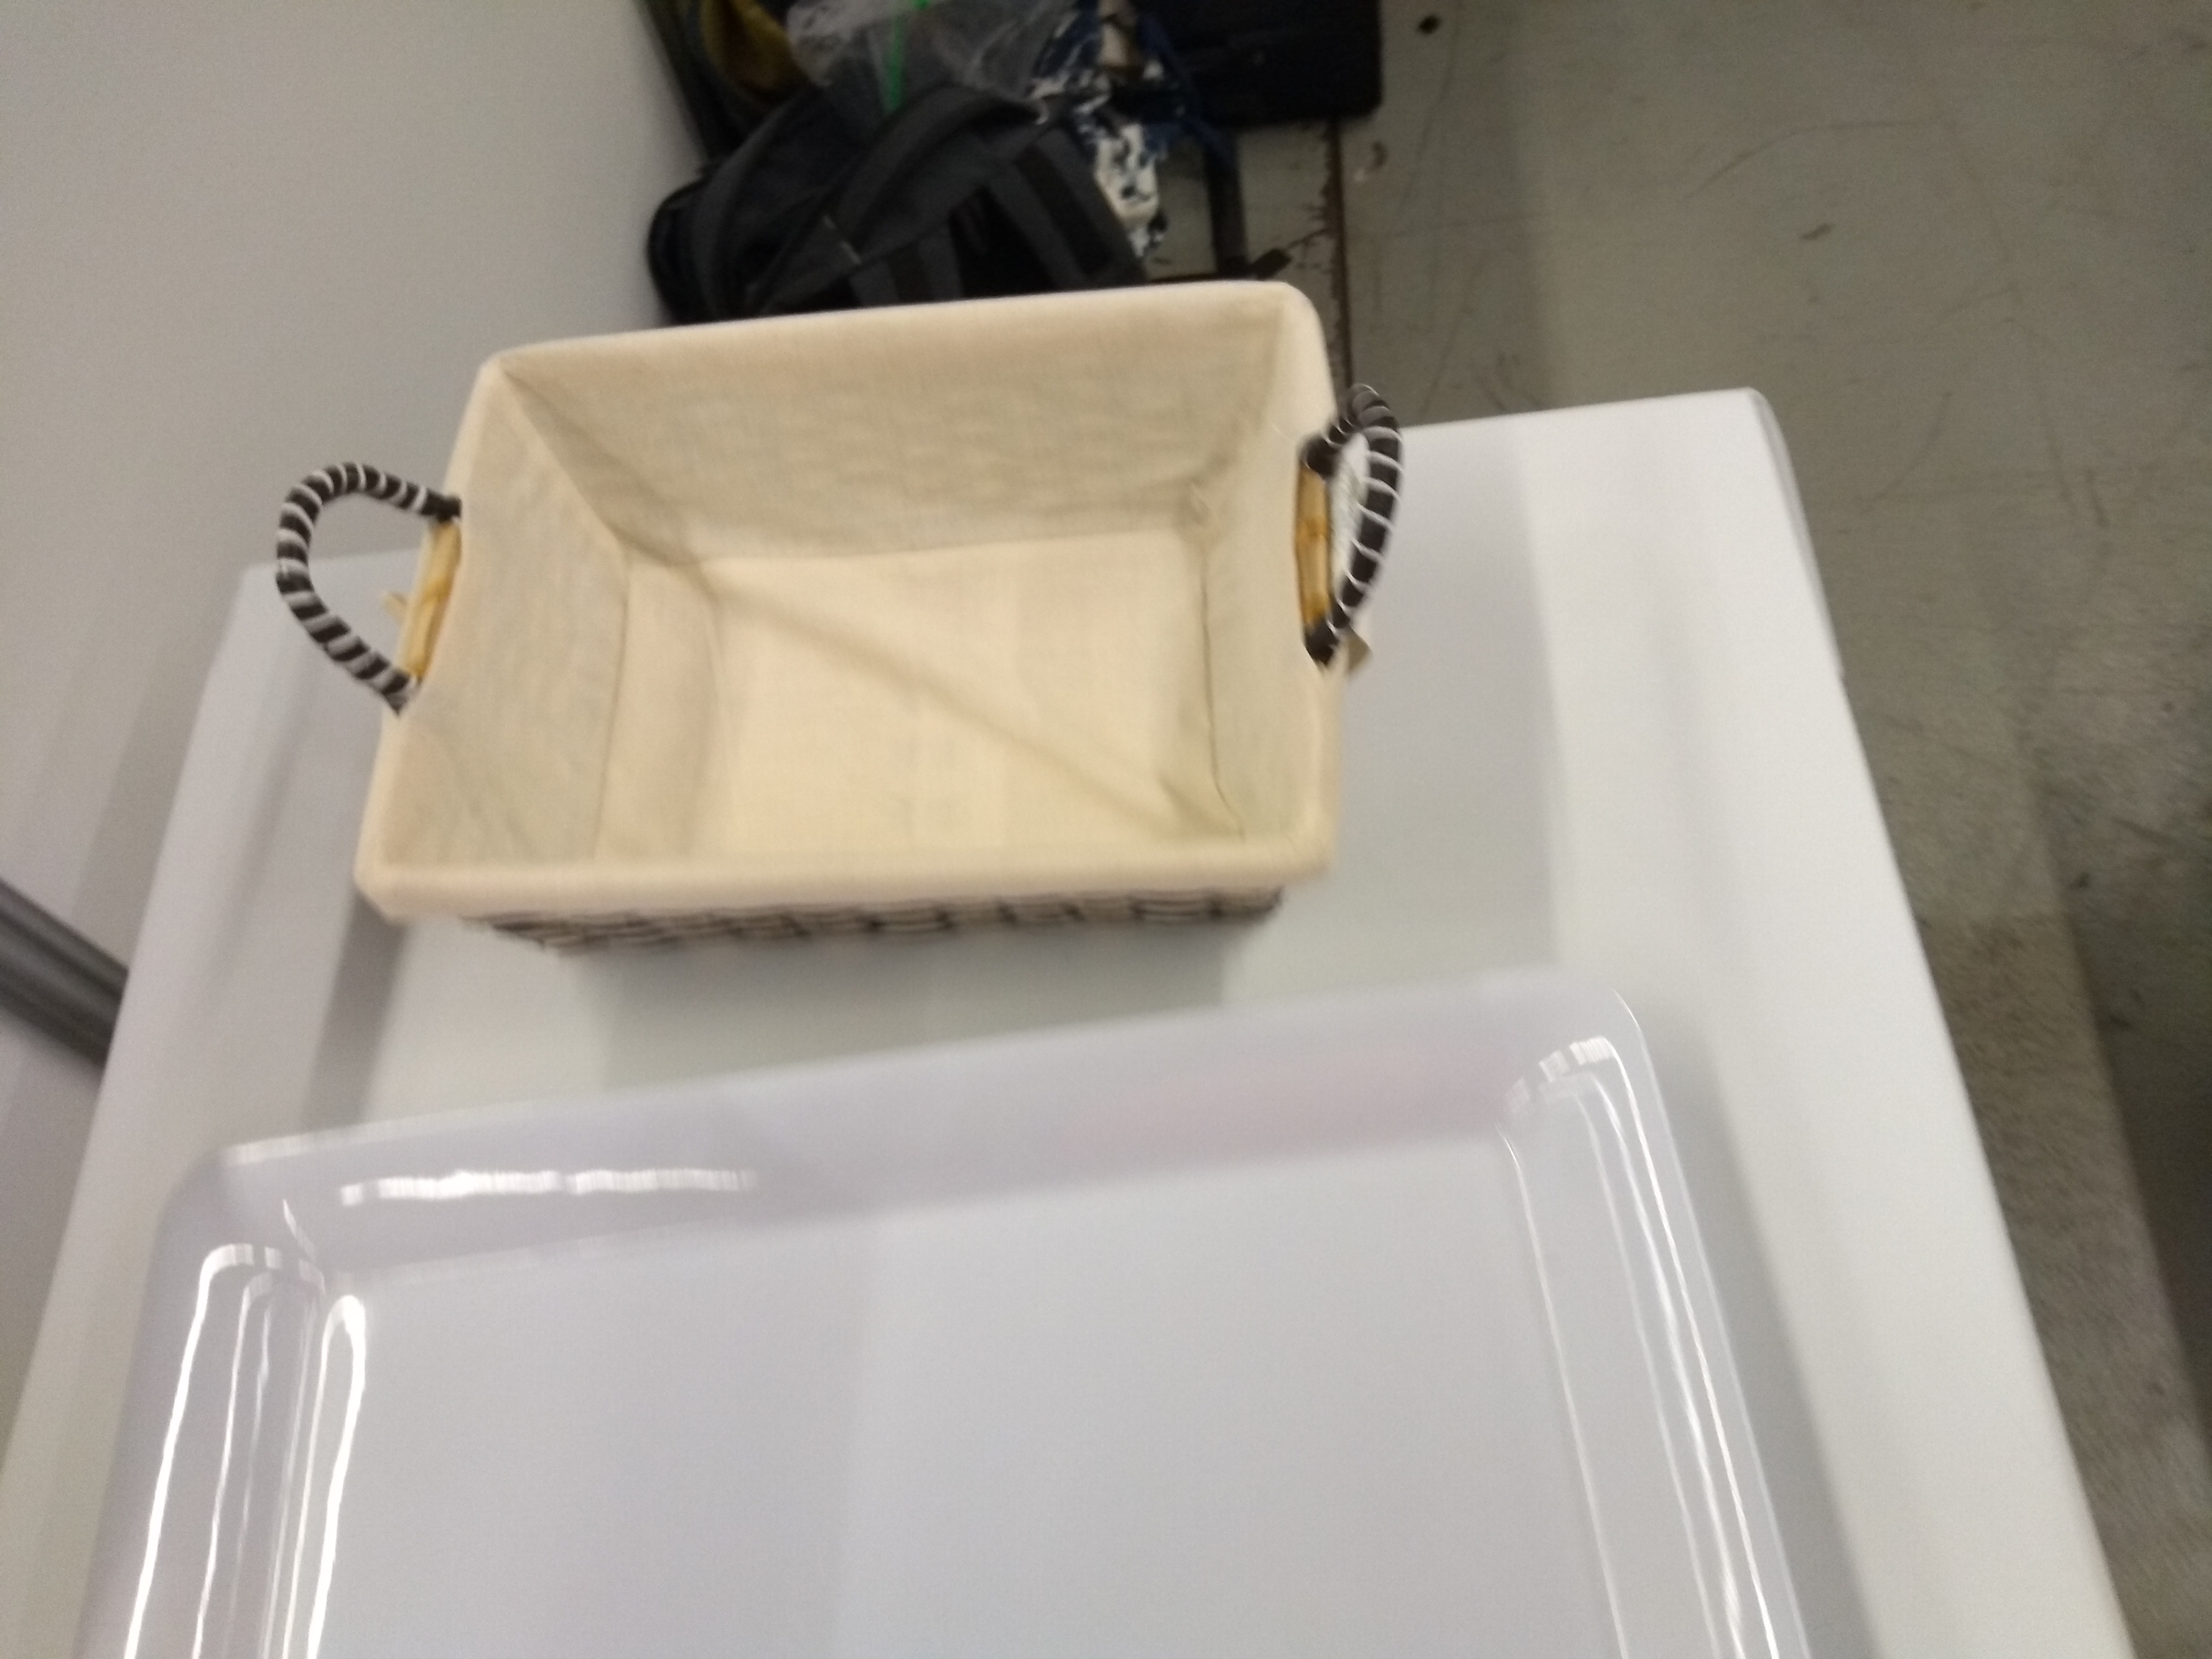basket: (266, 270, 1413, 932)
tray: (51, 941, 1817, 1659)
